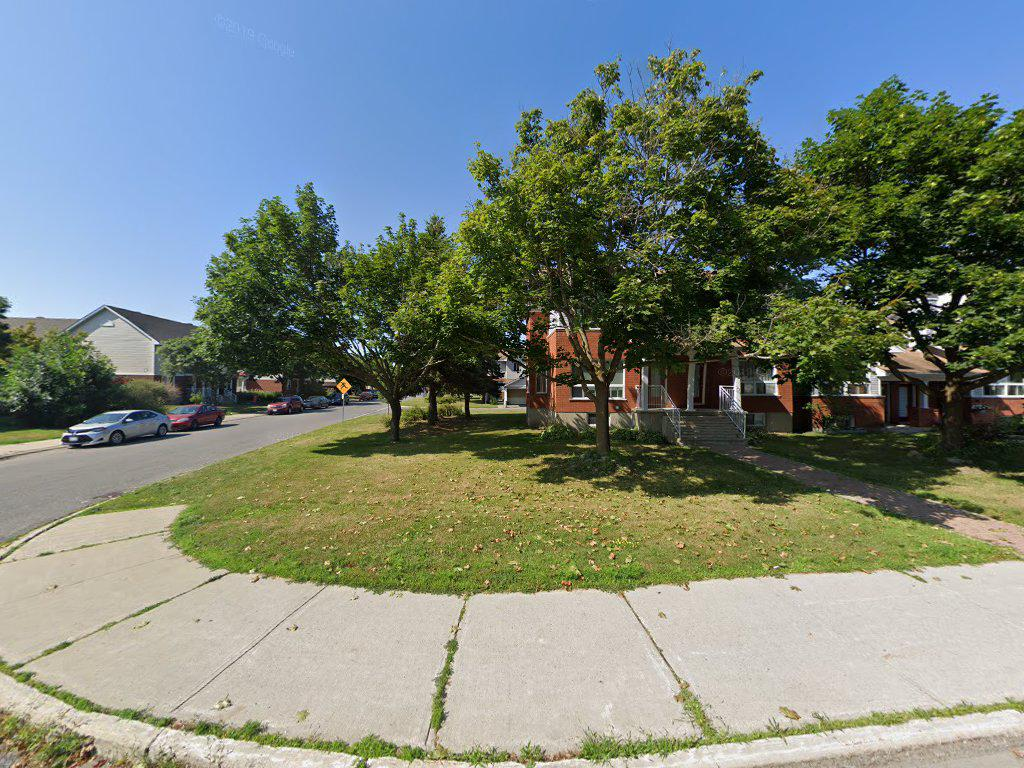trunk: (588, 367, 617, 480)
